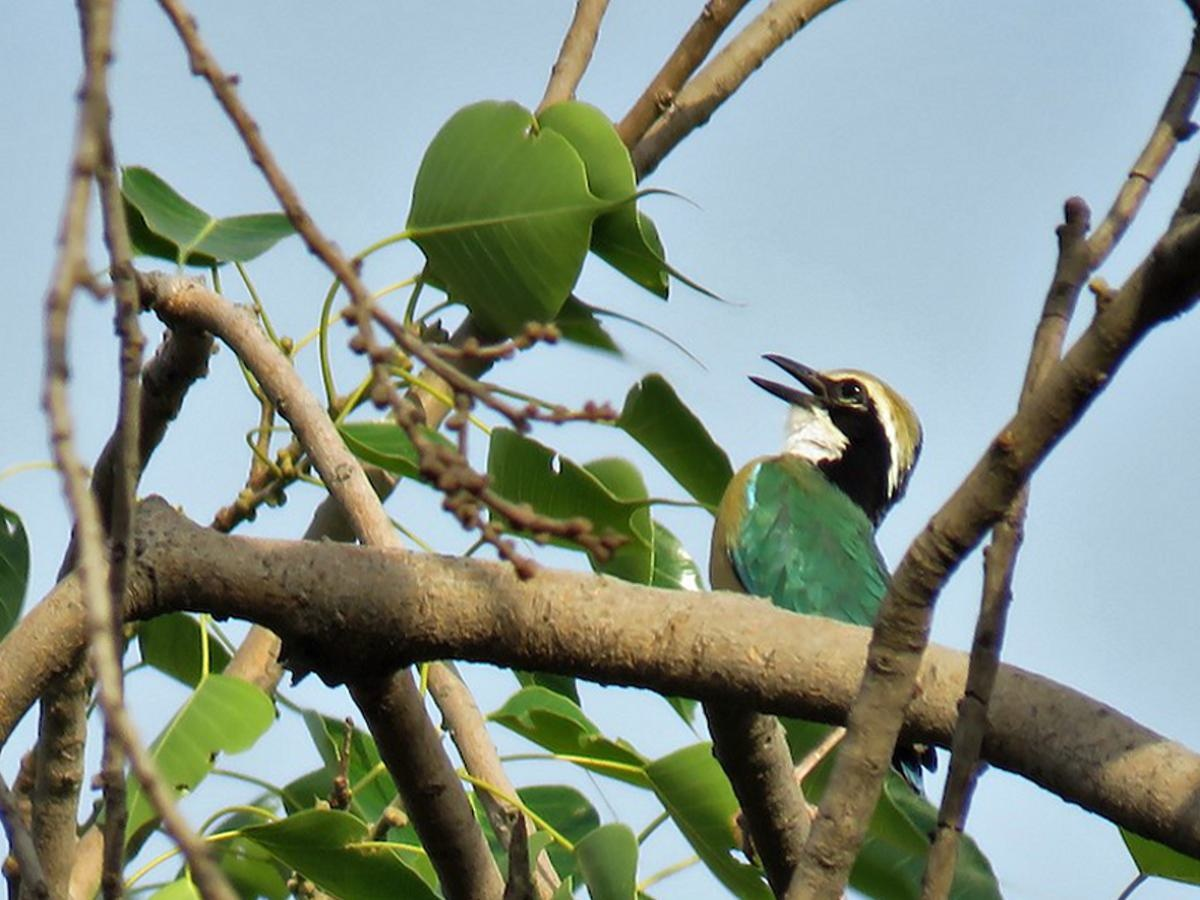pitta: (695, 297, 939, 690)
